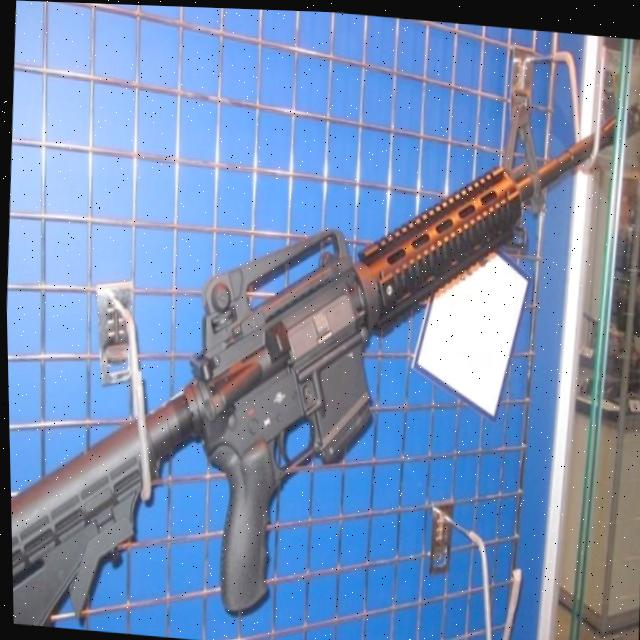firearm: (1, 42, 640, 640)
